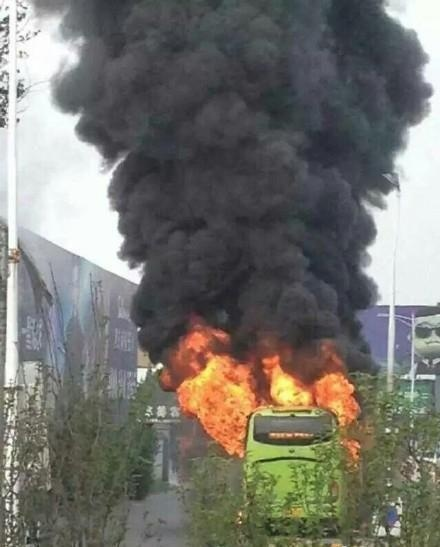fire: (166, 326, 361, 452), (261, 349, 363, 427)
